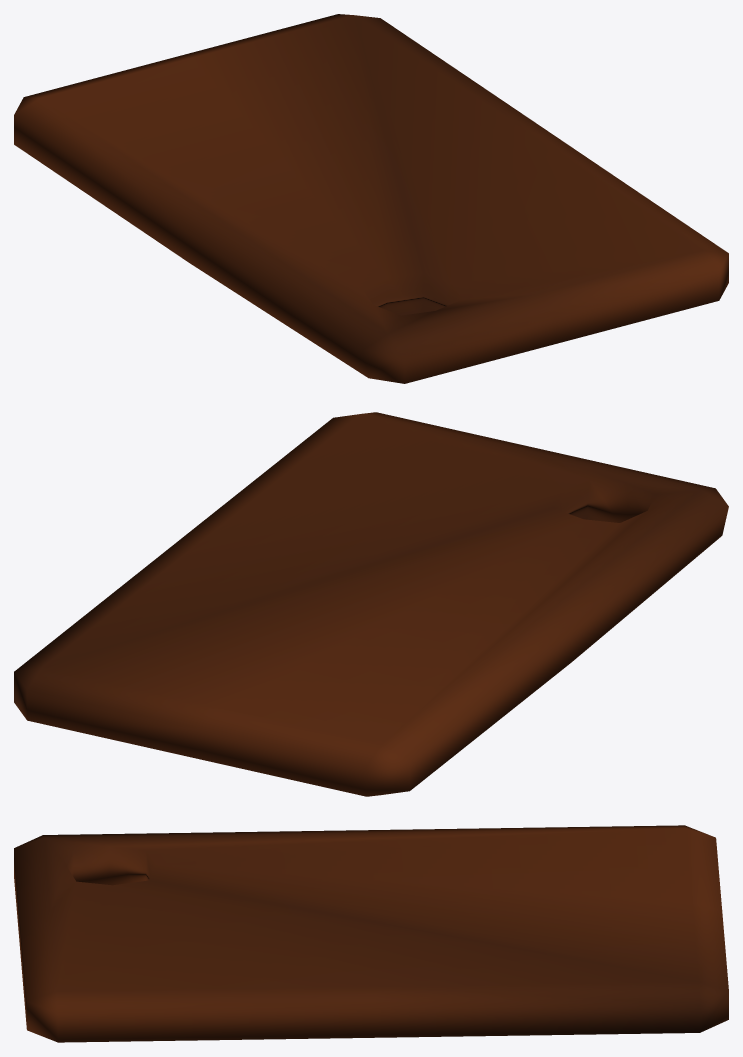
File: CuttingBoard 1.fbx
3 renders of one model, top to bottom at view 1: azimuth 30°, elevation 25°; view 2: azimuth 150°, elevation 25°; view 3: azimuth 270°, elevation 25°, orthographic. The views are drawn at different scales.
Parts seen in each view (by area): view 1: CuttingBoard_Model; view 2: CuttingBoard_Model; view 3: CuttingBoard_Model.
Boxes of the visible parts, left/top/right/bottom form: CuttingBoard_Model: left=14, top=14, right=728, bottom=383; CuttingBoard_Model: left=14, top=412, right=728, bottom=796; CuttingBoard_Model: left=14, top=825, right=728, bottom=1042.
Bounding box in the file's own units: 590 × 70.29 × 947.
